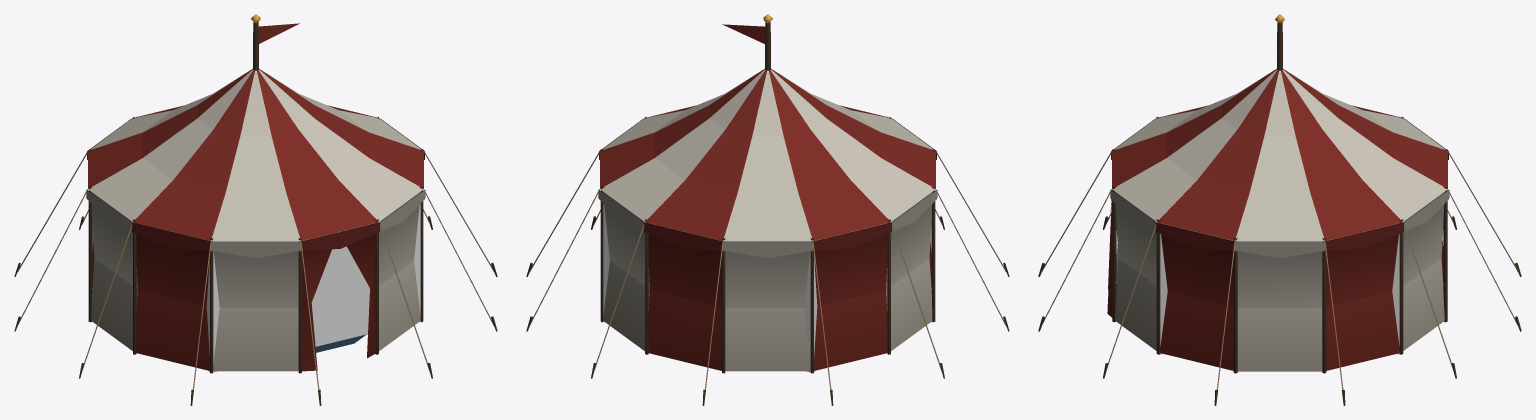
The model's file is tent_b.glb.
The picture shows the model from 3 angles, left to right: view 1: azimuth 30°, elevation 25°; view 2: azimuth 150°, elevation 25°; view 3: azimuth 270°, elevation 25°; orthographic projection.
Visible parts, largest first — view 1: tent_b, COL_tent; view 2: tent_b, COL_tent; view 3: tent_b, COL_tent.
Boxes of the visible parts, bbox=[...] form: tent_b: bbox=[14, 14, 497, 405]; COL_tent: bbox=[92, 104, 420, 372]; tent_b: bbox=[526, 14, 1009, 405]; COL_tent: bbox=[603, 104, 931, 372]; tent_b: bbox=[1038, 14, 1521, 405]; COL_tent: bbox=[1159, 119, 1400, 354].
Size of the model in its own units: 6.95 by 4.6 by 6.95.
